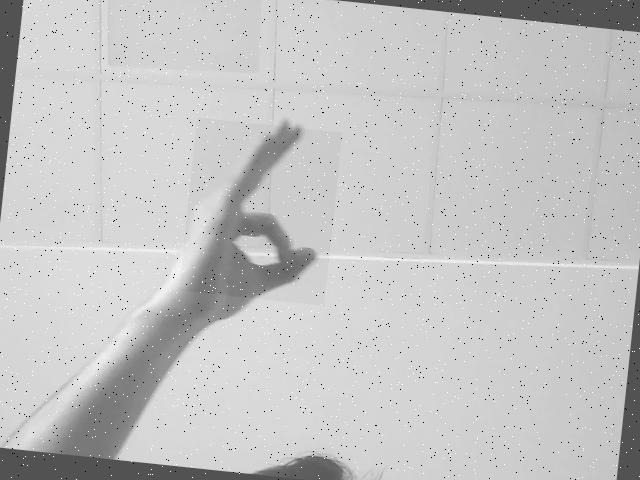OK: (179, 118, 342, 306)
